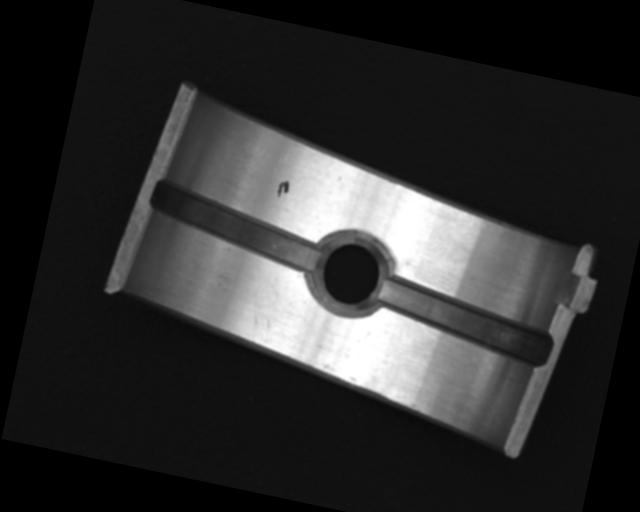blot: (275, 178, 290, 200)
gap: (367, 272, 559, 369), (143, 180, 327, 277)
hole: (304, 228, 391, 320)
